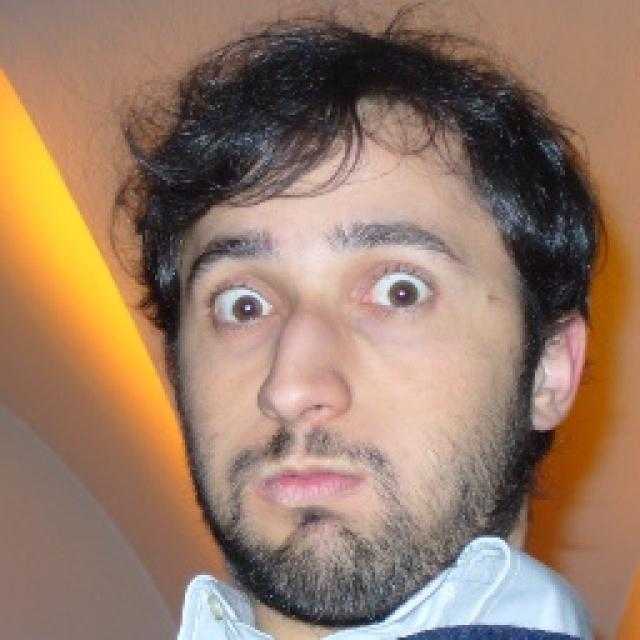earlobe: (529, 394, 565, 434)
eye: (207, 284, 280, 328), (356, 271, 436, 310)
nose: (259, 402, 353, 455)
wholeear: (530, 312, 590, 434)
